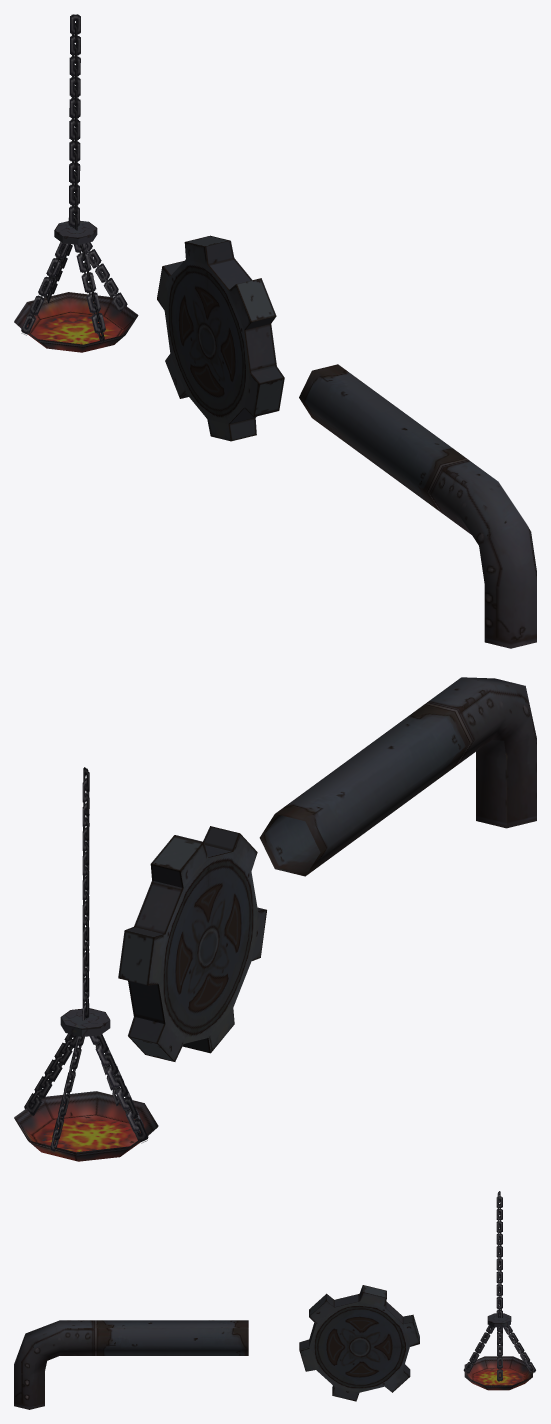
Rendered from 2_DG_GongChang_01.FBX.
3 views of the same model, one above another, from view 1: azimuth 30°, elevation 25°; view 2: azimuth 150°, elevation 25°; view 3: azimuth 270°, elevation 25° (orthographic). The views are drawn at different scales.
Parts seen in each view (by area): view 1: 2_DG_ChiLun_01, 2_DG_GuanDao_02, 2_DG_HuoPen_02, 2_DG_GuanDao_01; view 2: 2_DG_ChiLun_01, 2_DG_GuanDao_01, 2_DG_HuoPen_02, 2_DG_GuanDao_02; view 3: 2_DG_ChiLun_01, 2_DG_GuanDao_01, 2_DG_GuanDao_02, 2_DG_HuoPen_02.
Boxes of the visible parts, <box> form: 2_DG_ChiLun_01: <box>157,235,284,441</box>; 2_DG_GuanDao_02: <box>427,458,536,648</box>; 2_DG_HuoPen_02: <box>14,14,138,352</box>; 2_DG_GuanDao_01: <box>299,364,465,511</box>; 2_DG_ChiLun_01: <box>118,826,266,1061</box>; 2_DG_GuanDao_01: <box>259,704,469,876</box>; 2_DG_HuoPen_02: <box>14,767,158,1161</box>; 2_DG_GuanDao_02: <box>424,677,536,828</box>; 2_DG_ChiLun_01: <box>299,1285,419,1401</box>; 2_DG_GuanDao_01: <box>97,1320,248,1355</box>; 2_DG_GuanDao_02: <box>14,1320,97,1409</box>; 2_DG_HuoPen_02: <box>463,1191,535,1390</box>.
Bounding box in the file's own units: 267 × 731 × 1729.
